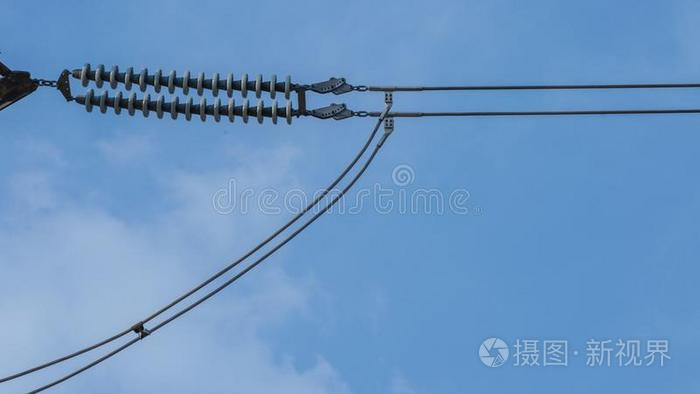insulator: (75, 61, 297, 126)
